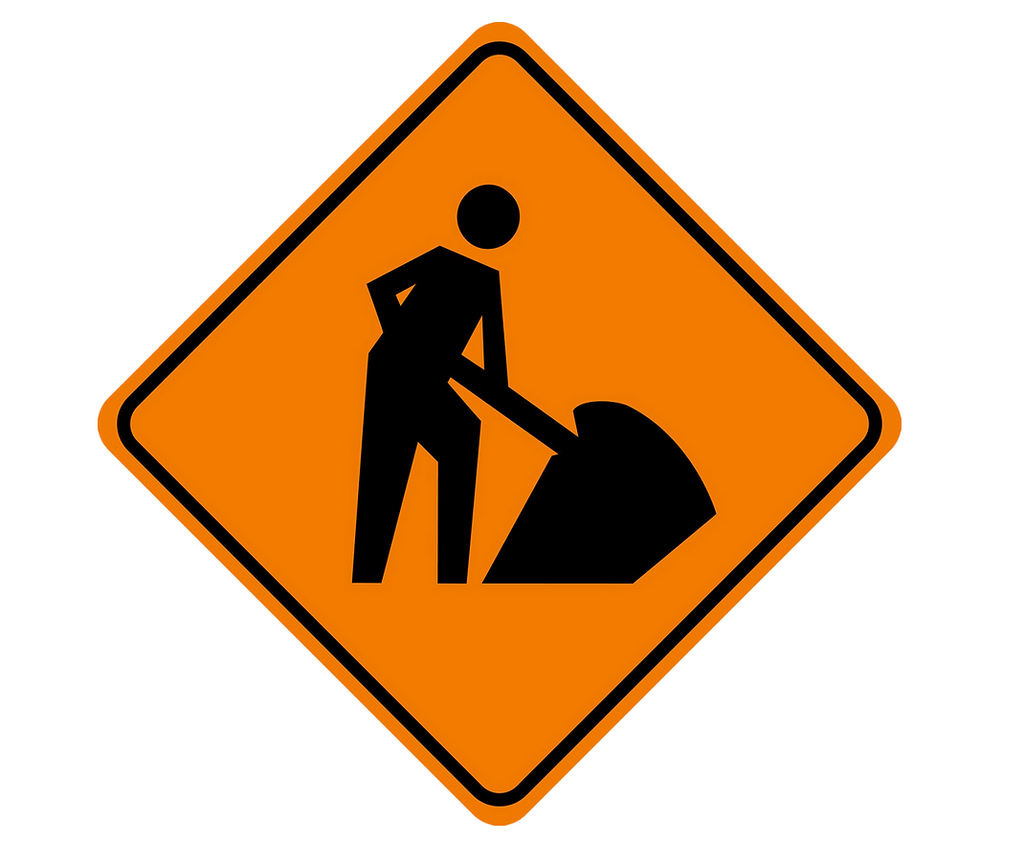Road_workahead: (95, 20, 891, 828)
